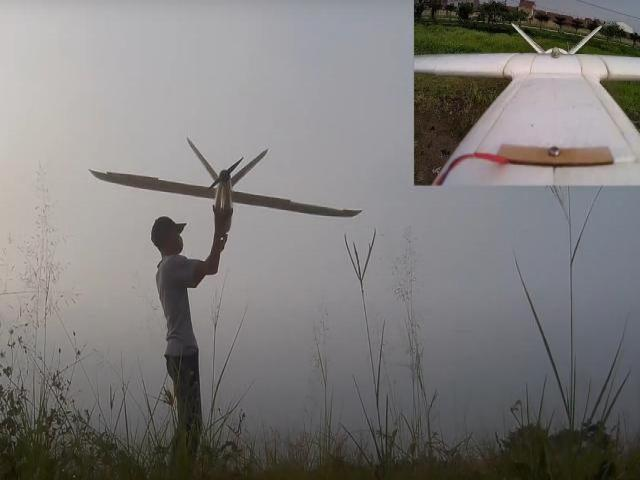iha: (83, 133, 367, 224)
